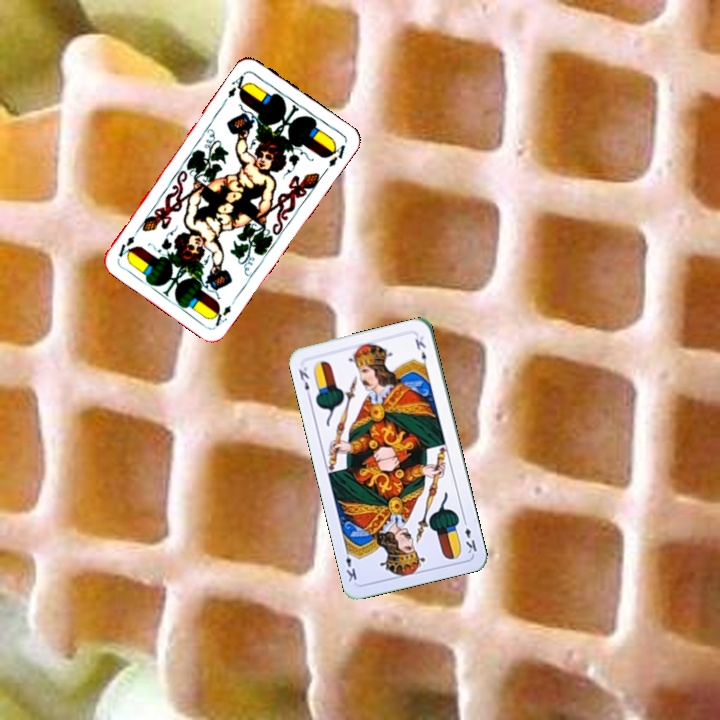EA: (208, 293, 239, 329), (224, 68, 252, 101)
EK: (459, 515, 479, 556), (295, 363, 313, 401)
